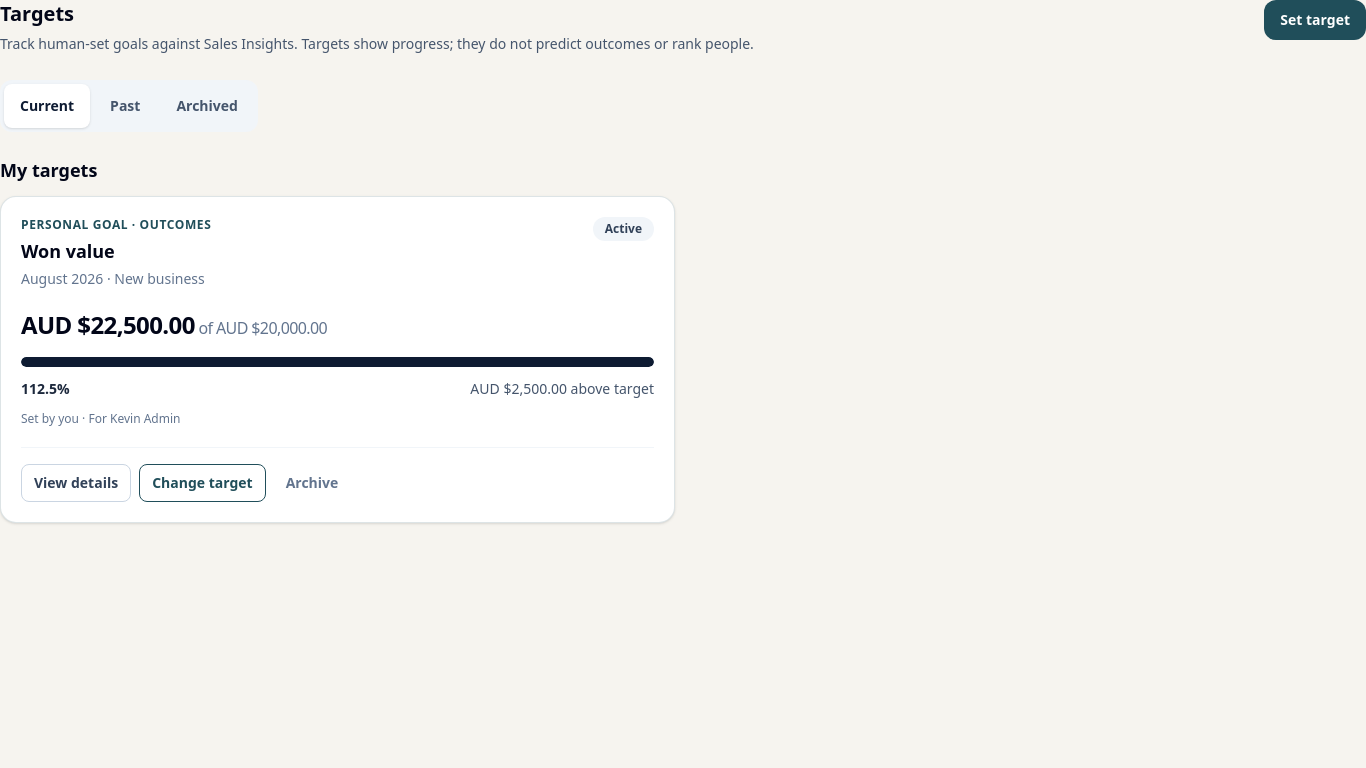
Test case: sales targets › requires confirmation and preserves the earlier value when revising
Click the button "Change target" at [202, 483], box [139,464,266,502]
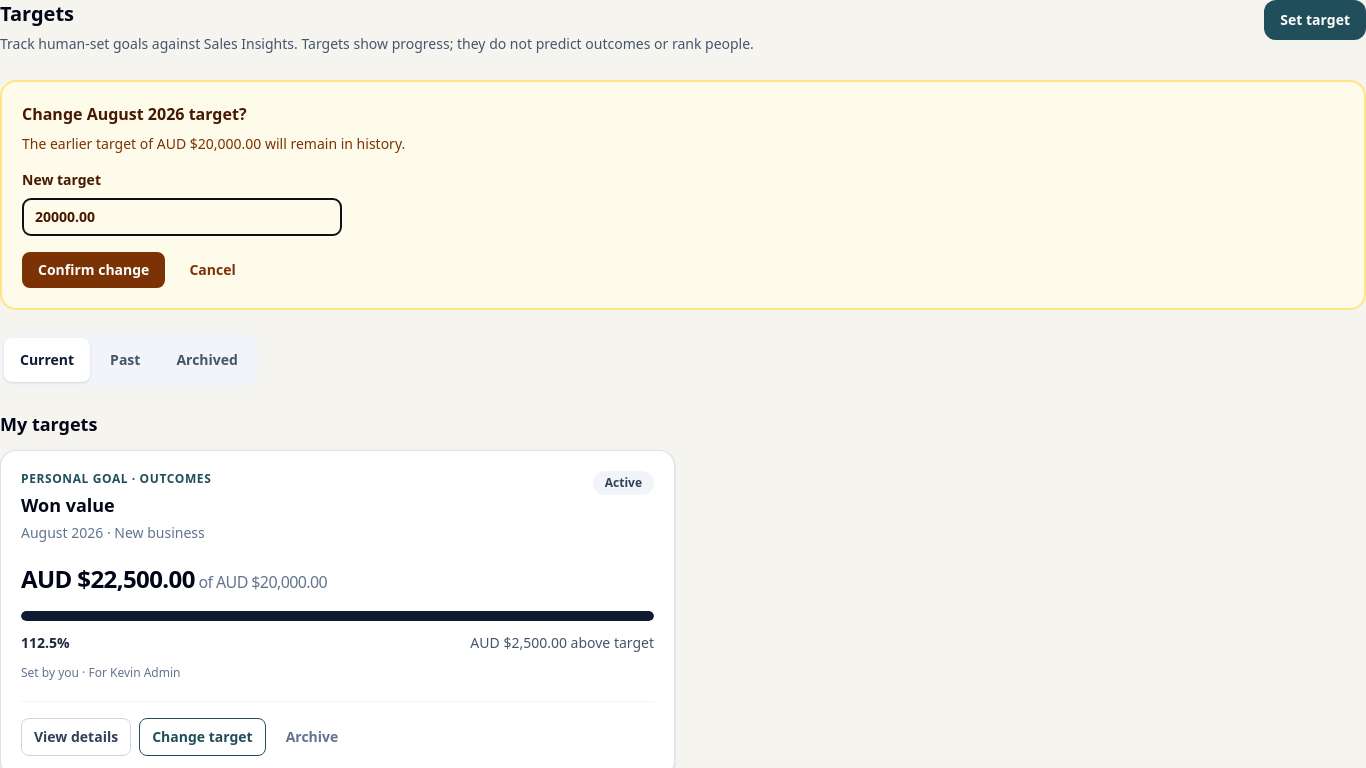
Result: the dialog shows "The earlier target of AUD $20,000.00 will remain in history" at [0,80,1365,310]
Replace the text in the field labelled "New target" with "30000" at [182, 217], box [22,198,342,236]
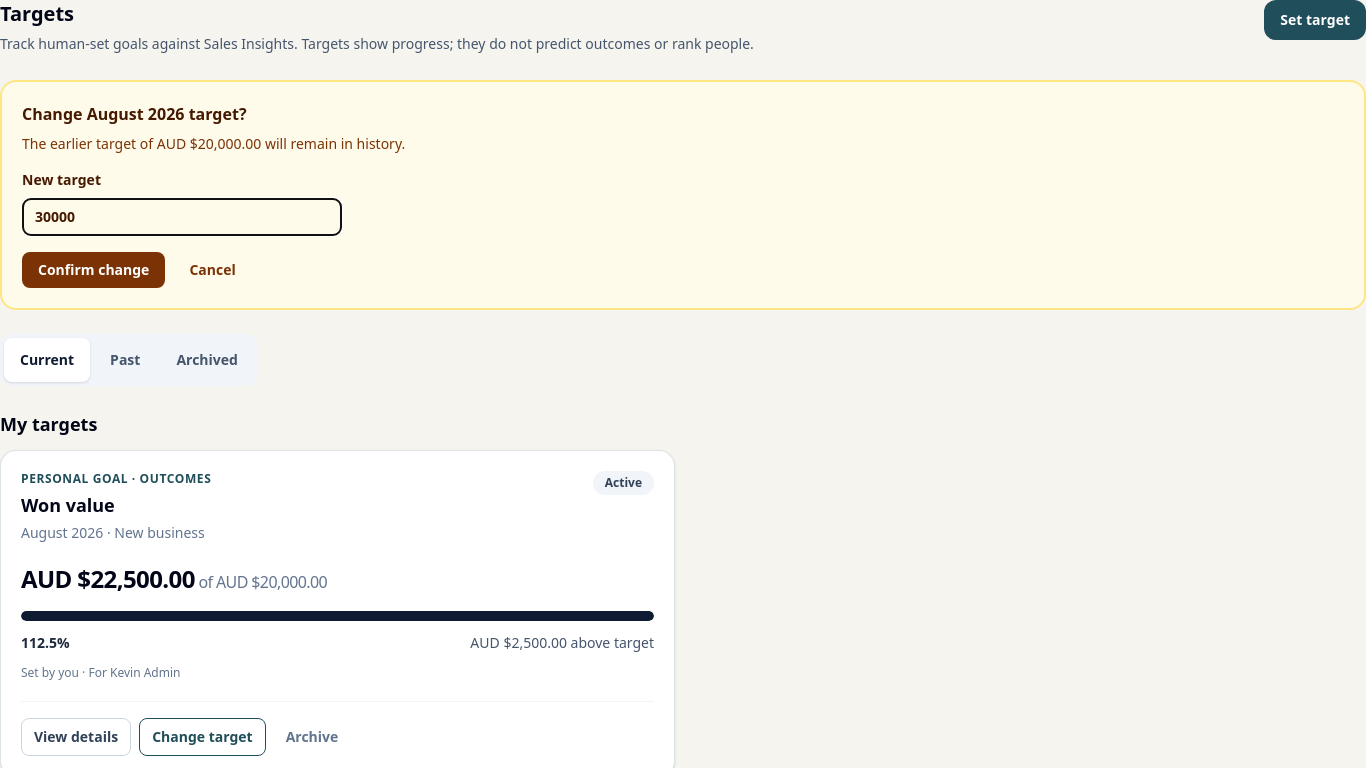
Click the button "Confirm change" at [94, 270], box [22,252,165,288]
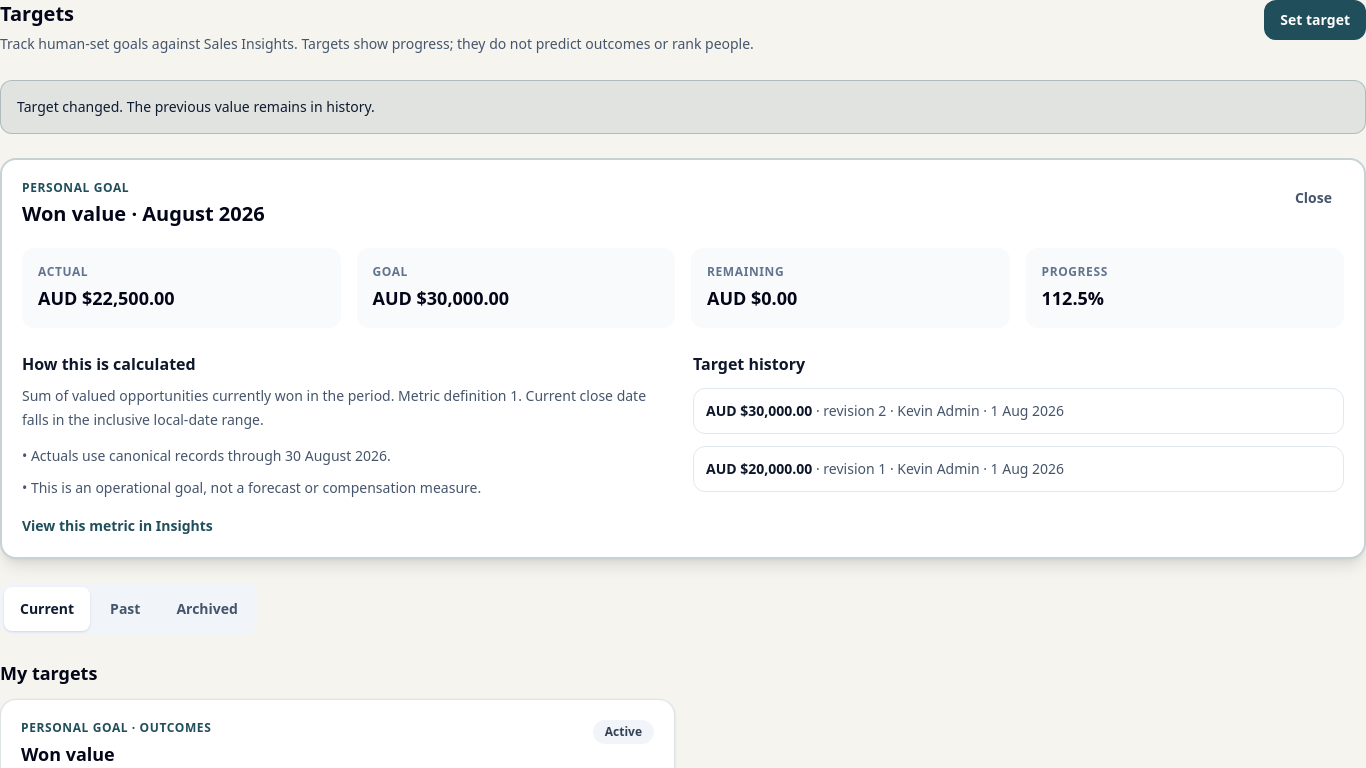
Result: the text "Target changed. The previous value remains in history." is shown at [0,80,1365,134]
